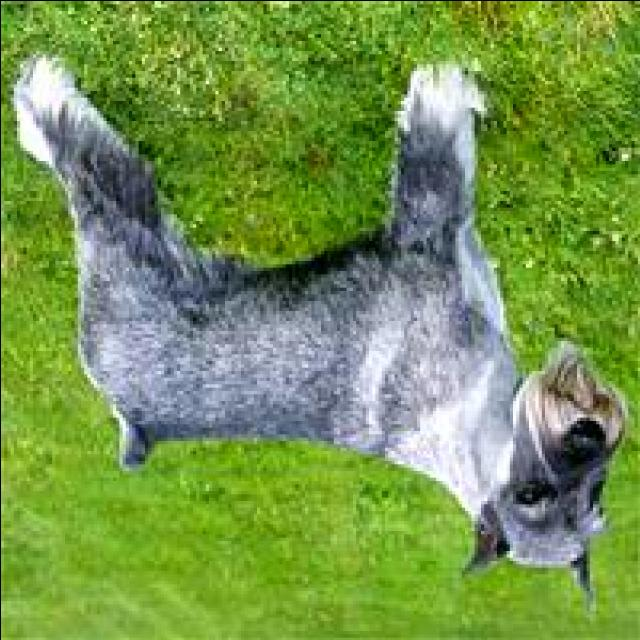standard_schnauzer: (9, 47, 634, 613)
